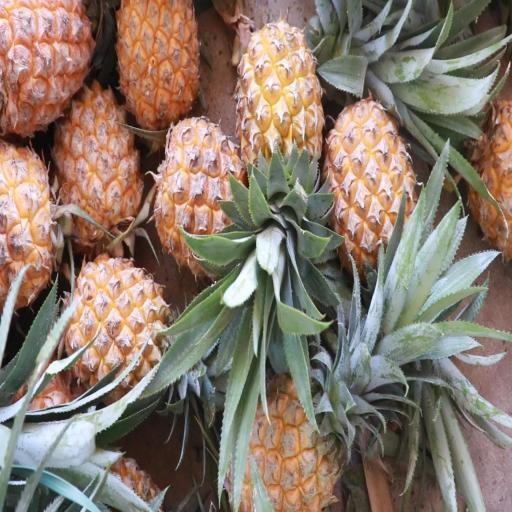Pineapple - v8 v1: (219, 351, 368, 512), (320, 94, 424, 288), (235, 17, 327, 213), (62, 246, 176, 404), (152, 114, 255, 283), (50, 80, 147, 256), (0, 1, 98, 145), (112, 0, 202, 135), (0, 135, 59, 313)
